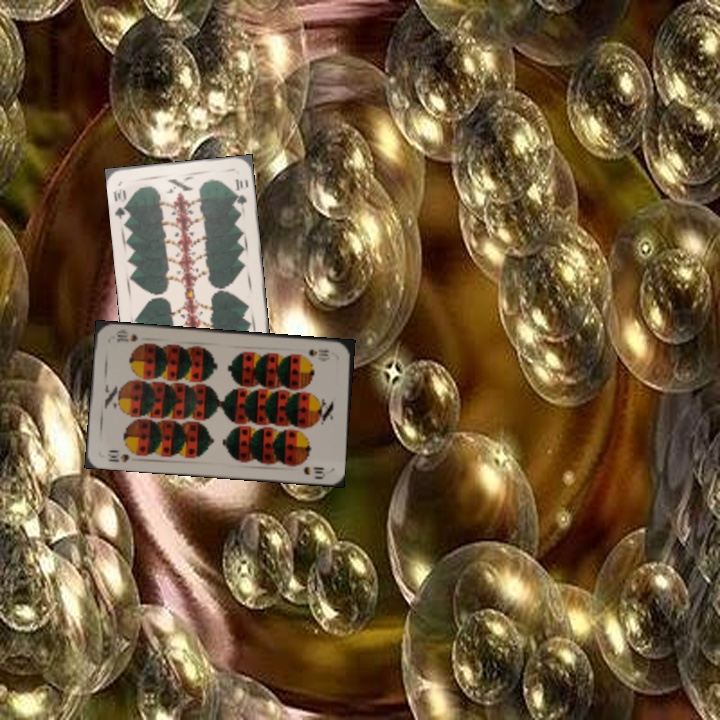G10: (110, 184, 132, 222)
S10: (103, 445, 132, 465), (305, 345, 331, 359)
